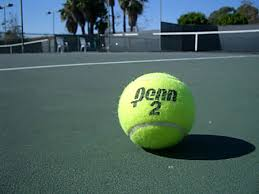tennis_ball: (117, 71, 197, 152)
